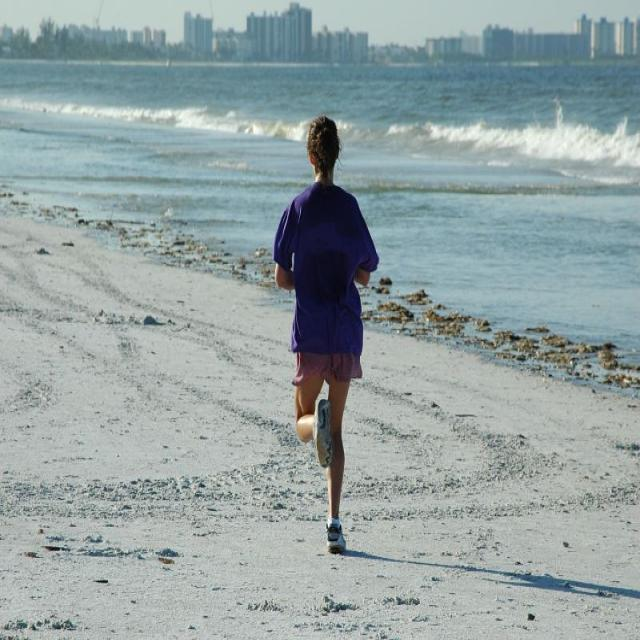running: (274, 115, 383, 551)
